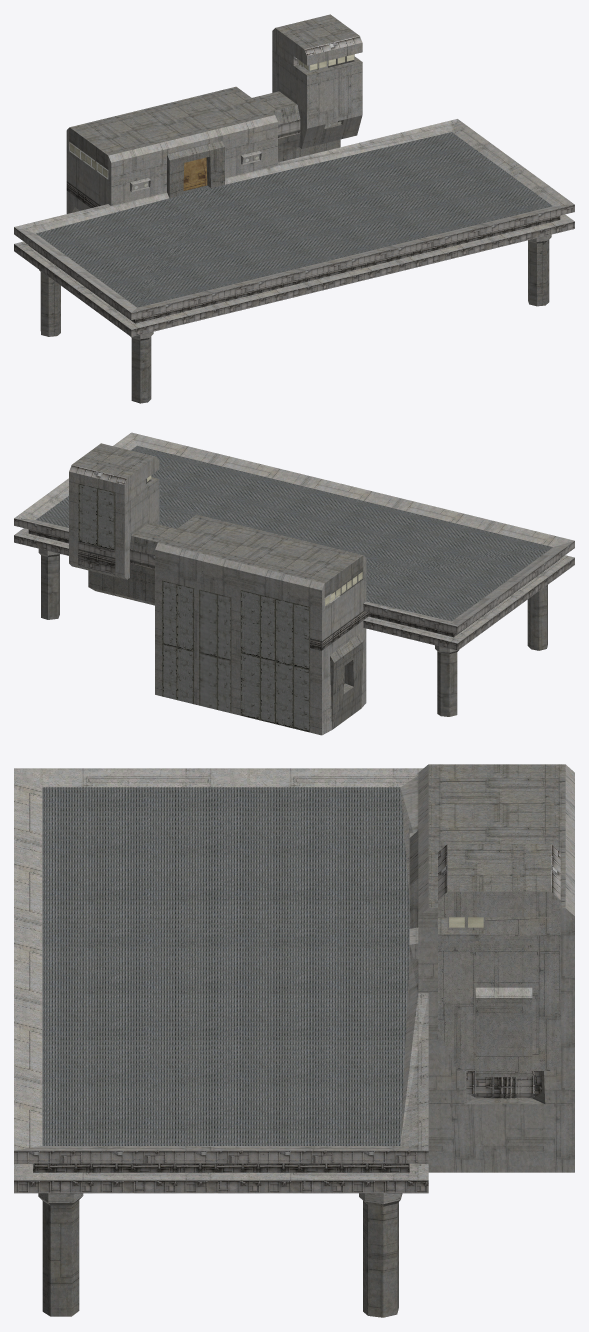
File: mun_all_landing_pad_s01_r0_exterior_mesh_l1.fbx
The picture shows the model from 3 angles, top to bottom: view 1: azimuth 30°, elevation 25°; view 2: azimuth 150°, elevation 25°; view 3: azimuth 270°, elevation 25°; orthographic projection. The views are drawn at different scales.
Parts seen in each view (by area): view 1: mesh_node; view 2: mesh_node; view 3: mesh_node.
Part boxes in pixels (x1,y1,x2,y2): mesh_node: (14,14,574,403); mesh_node: (14,432,574,735); mesh_node: (14,764,574,1317).
Size of the model in its own units: 48 by 21 by 29.76.
